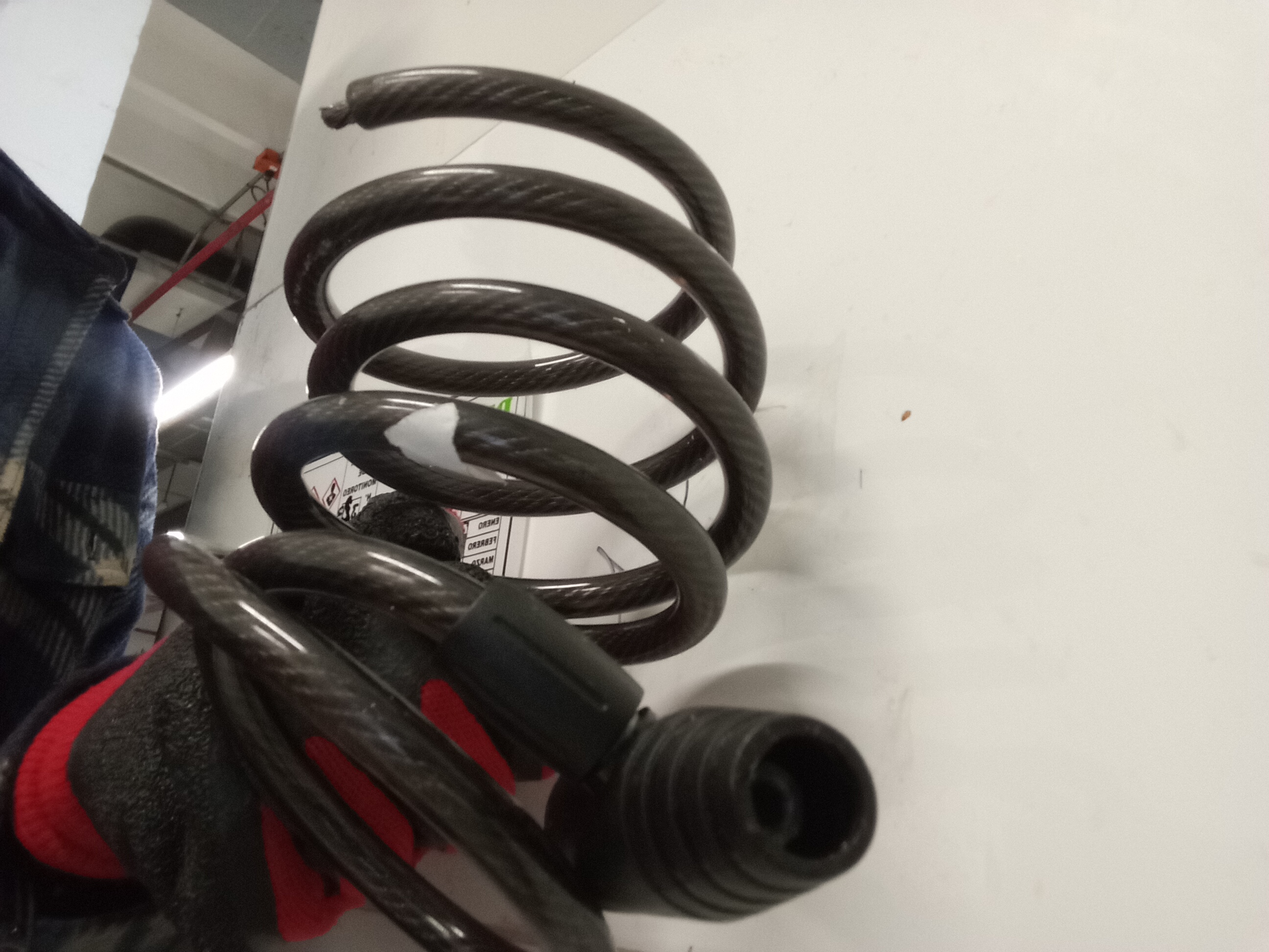Ordinario: (141, 68, 765, 952)
